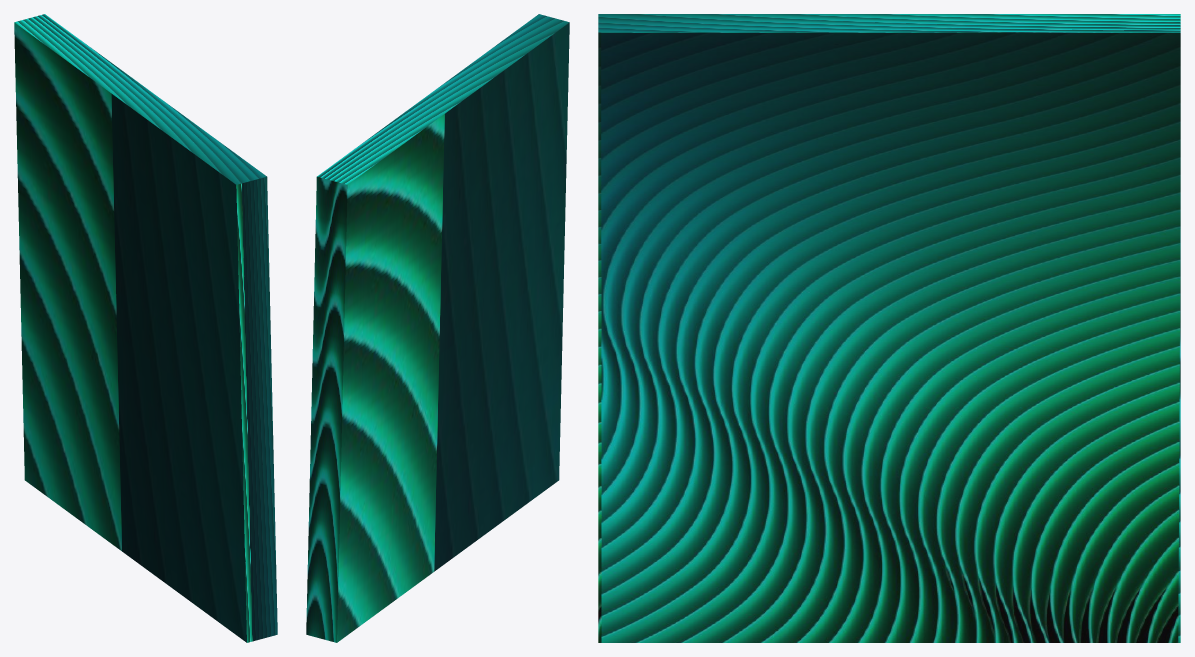
The model's file is BackGround.glb.
3 views of the same model, side by side, from view 1: azimuth 30°, elevation 25°; view 2: azimuth 150°, elevation 25°; view 3: azimuth 270°, elevation 25° (orthographic). The views are drawn at different scales.
Visible parts, largest first — view 1: Cube; view 2: Cube; view 3: Cube.
Part boxes in pixels (<box>): Cube: <box>14,14,277,642</box>; Cube: <box>306,14,569,642</box>; Cube: <box>598,14,1180,642</box>.
Bounding box in the file's own units: 0.6458 × 6.88 × 6.01.
1 material, 1 textured.
